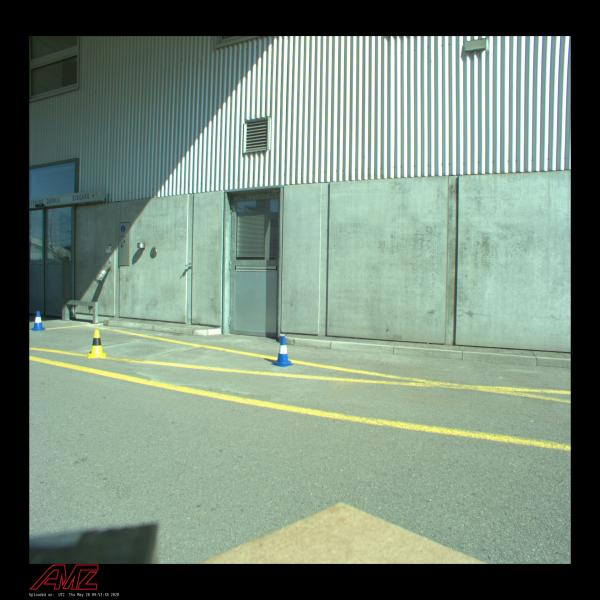blue_cone: (271, 336, 294, 367), (30, 311, 47, 331)
yellow_cone: (87, 330, 106, 358)
